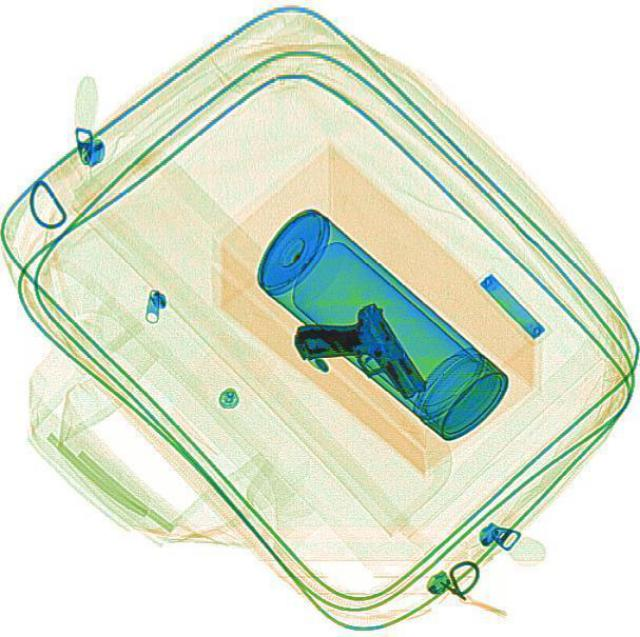Gun: (284, 288, 428, 429)
